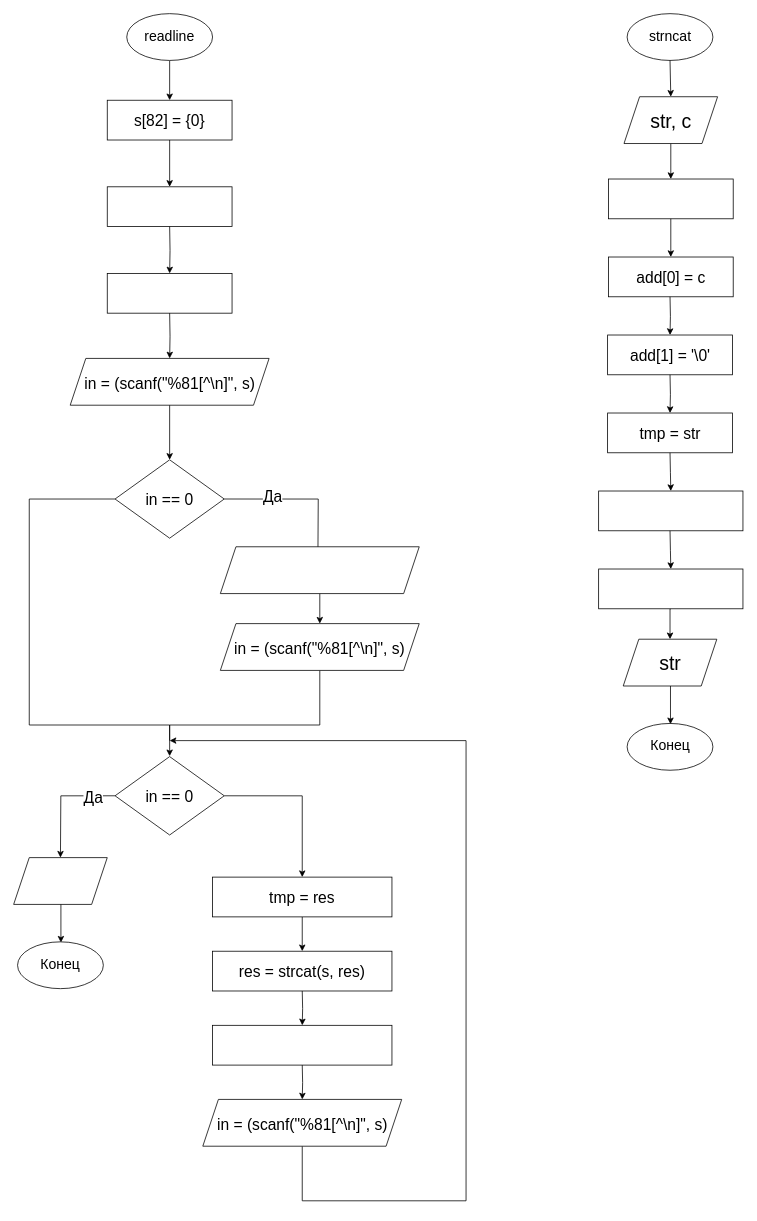
Some shapes in this 757 by 1221 pixel diagram are drawn without their labels. Each missing label, with the box of its shape:
add = malloc(2): (608, 178, 733, 219)
free(tmp): (212, 1025, 392, 1065)
free(tmp), free(add): (598, 568, 743, 609)
res: (13, 857, 107, 904)
res = malloc(1): (106, 186, 232, 227)
res[0] = '\0': (106, 273, 232, 313)
str = strcat(str, add): (598, 490, 743, 531)
Очистка буфера ввода: (220, 546, 419, 594)
